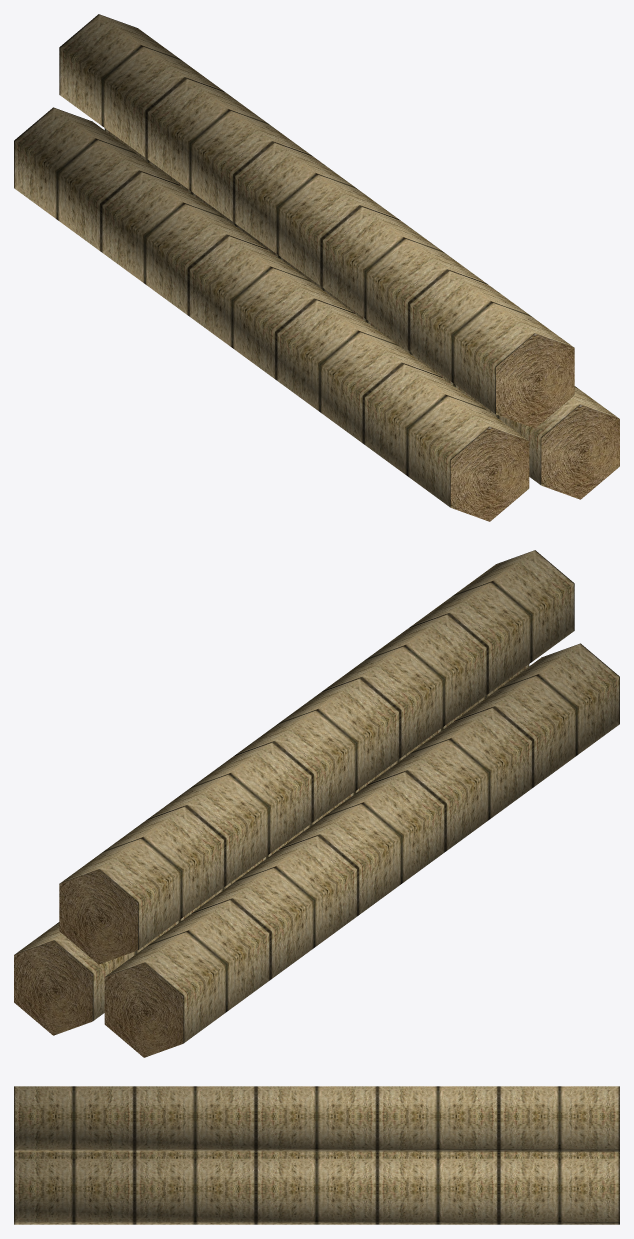
File: hay-bale-straw-3x10-cbj_LOD02.gltf
3 renders of one model, top to bottom at view 1: azimuth 30°, elevation 25°; view 2: azimuth 150°, elevation 25°; view 3: azimuth 270°, elevation 25°, orthographic. The views are drawn at different scales.
Parts seen in each view (by area): view 1: Cube.002; view 2: Cube.002; view 3: Cube.002.
Boxes of the visible parts, box(x1,y1,x2,y2) form: Cube.002: box(14, 14, 619, 521); Cube.002: box(14, 550, 619, 1057); Cube.002: box(14, 1086, 619, 1224).
Size of what is drawn, in the model's own units: 3.36 by 3.36 by 15.
